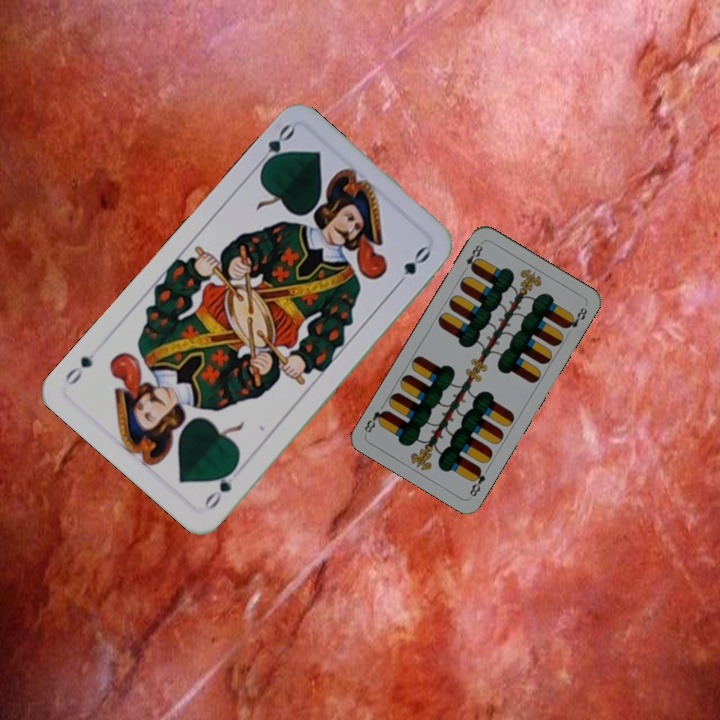E8: (459, 239, 485, 275), (465, 463, 488, 499)
GO: (251, 120, 298, 174), (200, 461, 245, 513)
